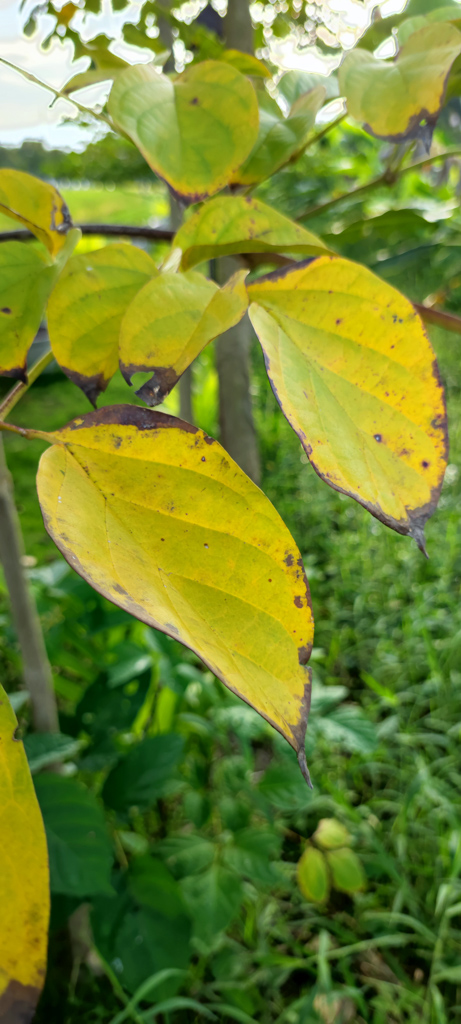Pepper yellow leaf: (34, 403, 336, 784), (230, 243, 450, 547), (44, 229, 252, 405), (98, 57, 272, 216), (328, 13, 458, 167), (4, 687, 55, 1018), (162, 192, 353, 275), (4, 162, 81, 266)
